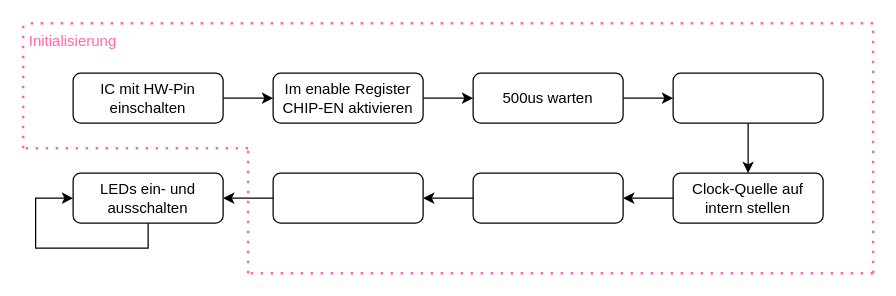
Some shapes in this 896 by 296 pixel diagram are drawn without their labels. Each missing label, with the box of its shape:
Charge-pump aktivieren: (672, 72, 823, 123)
LED-Strom einstellen: (472, 172, 623, 223)
PWM Duty-Cycle einstellen: (272, 172, 423, 223)
